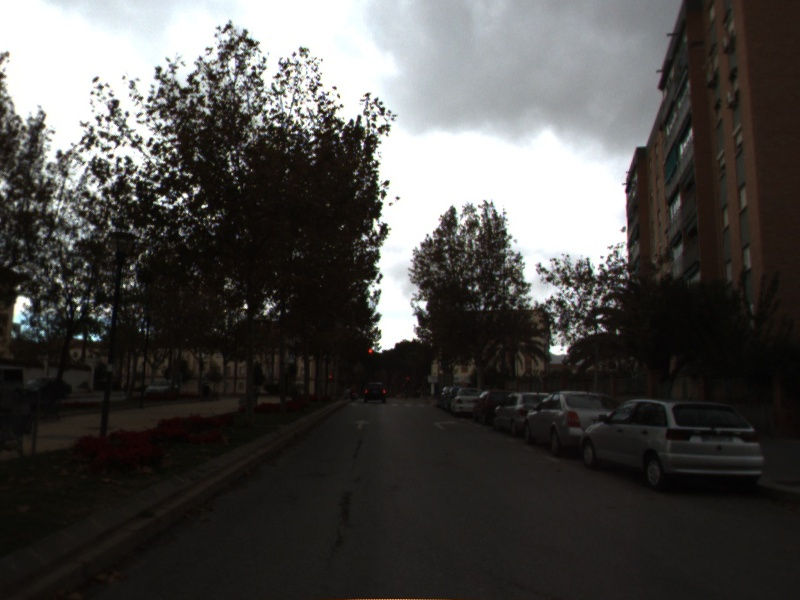RIGHT: (431, 418, 462, 432)
STRAIGHT: (351, 417, 372, 432)
